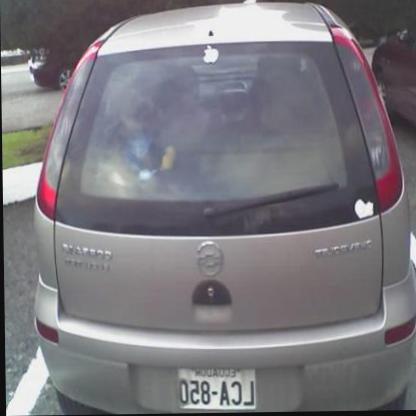License_Plate: (176, 367, 256, 411)
